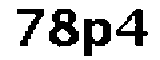4: (114, 5, 151, 55)
7: (14, 6, 46, 51)
8: (48, 6, 79, 50)
p: (80, 15, 112, 60)
